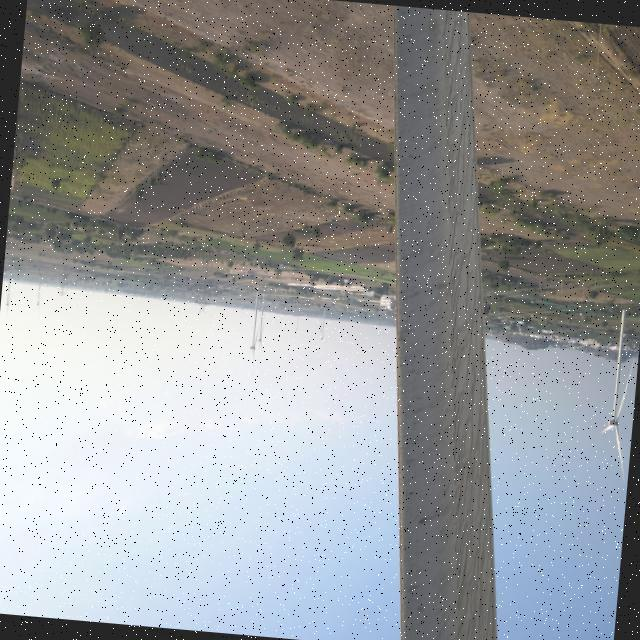Dirt: (401, 12, 498, 640)
